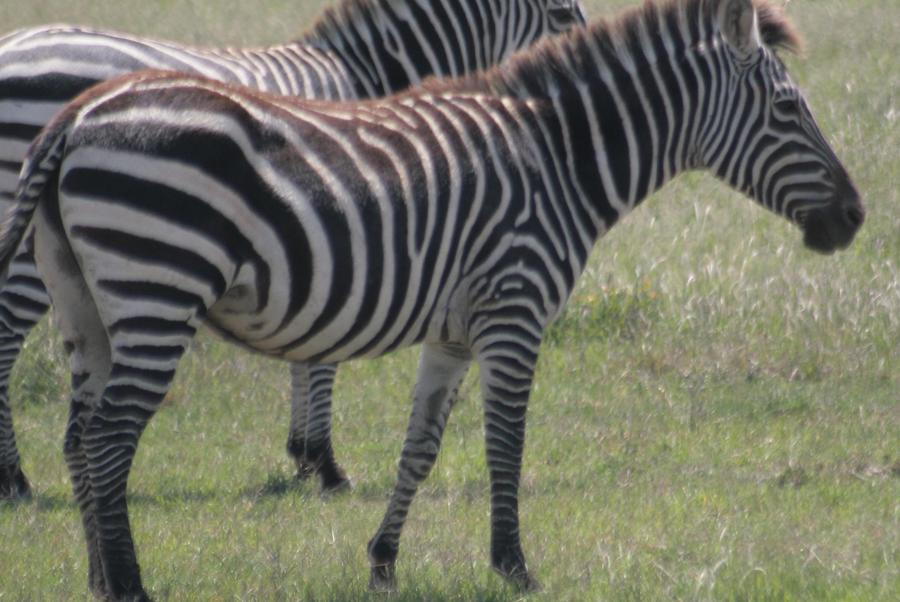zebra_plains: (79, 62, 566, 370)
